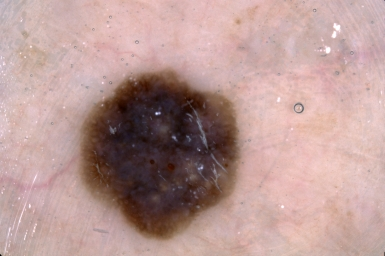seborrheic keratosis: (67, 54, 261, 243)
